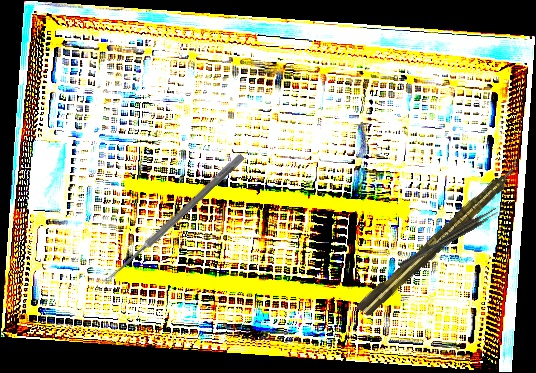Handpiece: (352, 154, 530, 322)
Surgical Spoon: (102, 152, 245, 287)
Tissue Forceps: (396, 206, 500, 270)
